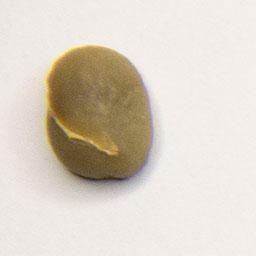premium: (42, 41, 158, 184)
